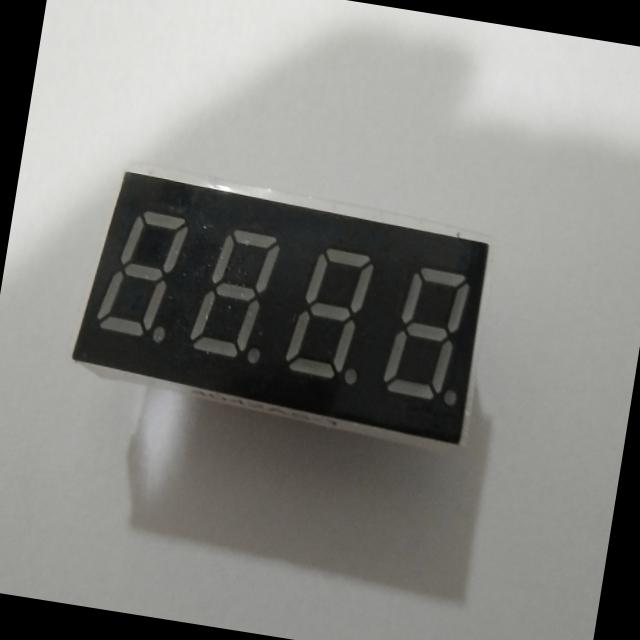7_segments_4_digits: (61, 156, 510, 460)
